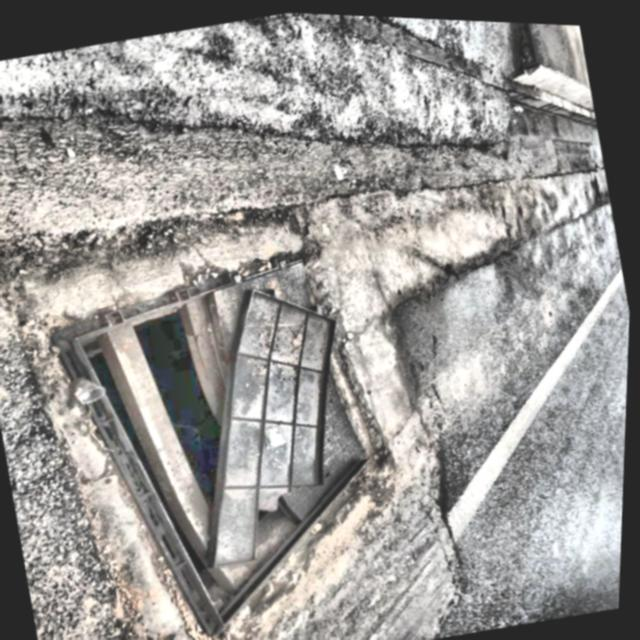open_manhole: (8, 250, 436, 640)
